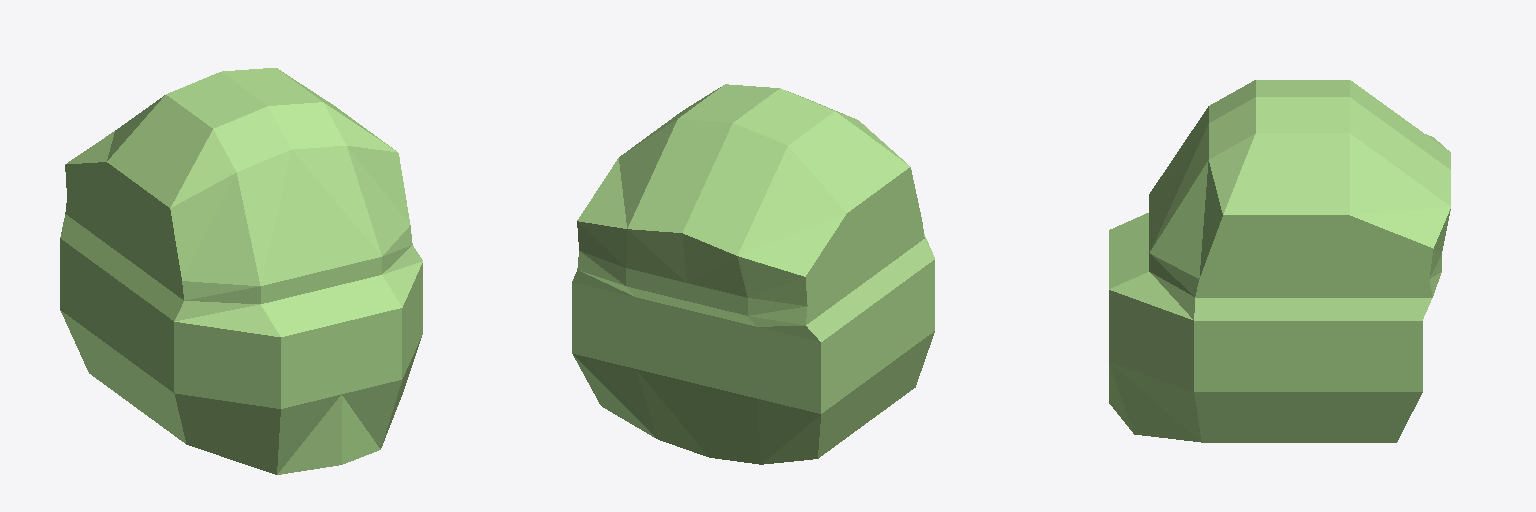
File: GiantHead.obj
3 renders of one model, left to right at view 1: azimuth 30°, elevation 25°; view 2: azimuth 150°, elevation 25°; view 3: azimuth 270°, elevation 25°, orthographic.
Parts seen in each view (by area): view 1: Head; view 2: Head; view 3: Head.
Boxes of the visible parts, box(x1,y1,x2,y2) form: Head: box(60, 68, 422, 474); Head: box(572, 84, 934, 464); Head: box(1109, 80, 1450, 442).
Size of the model in its own units: 20.09 by 24.49 by 23.95.